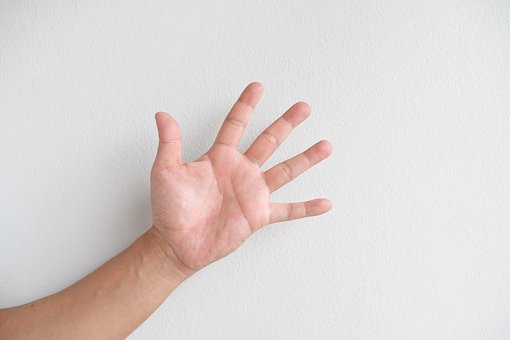palm: (161, 153, 284, 264)
